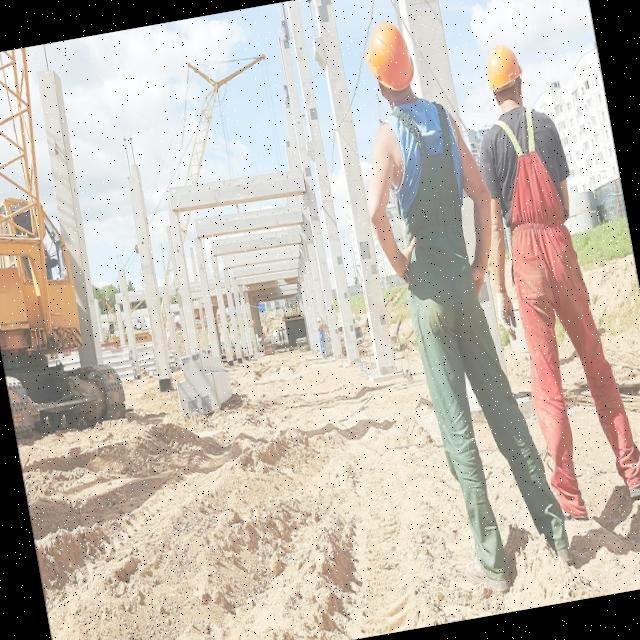Helmet: (360, 18, 419, 107), (481, 42, 529, 112), (317, 317, 322, 325)
NoJacket: (390, 100, 481, 313), (492, 116, 580, 309)
